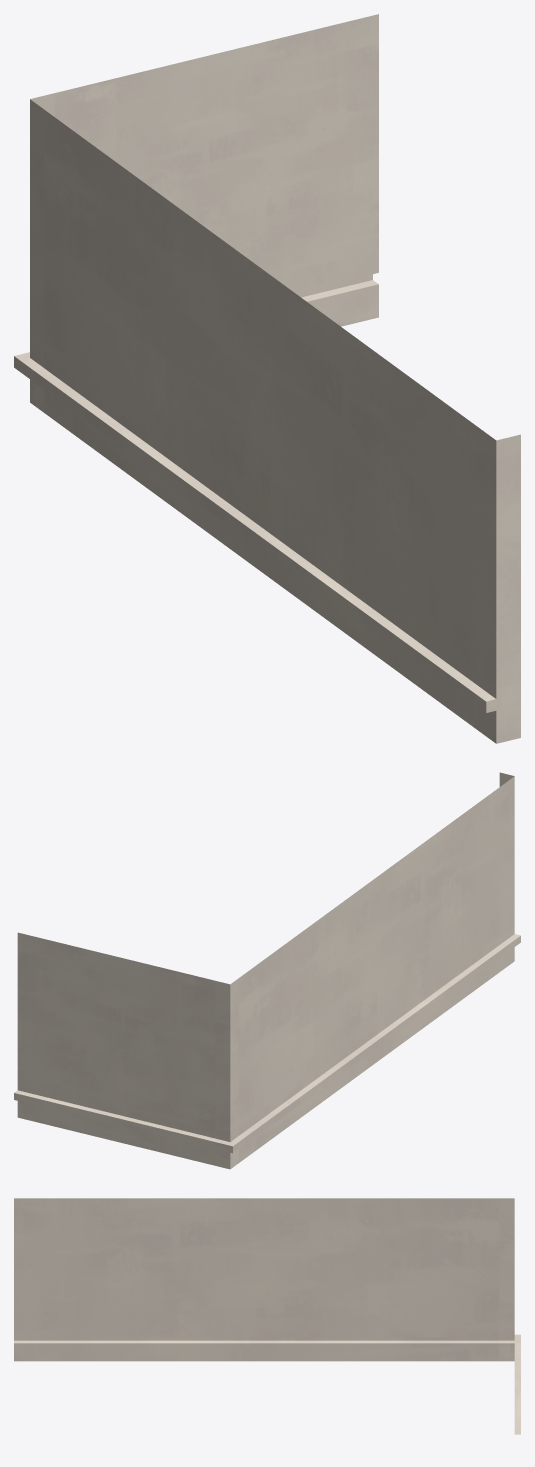
The model's file is stairs outer facade.fbx.
The picture shows the model from 3 angles, top to bottom: view 1: azimuth 30°, elevation 25°; view 2: azimuth 150°, elevation 25°; view 3: azimuth 270°, elevation 25°; orthographic projection. The views are drawn at different scales.
Parts seen in each view (by area): view 1: polySurface16, pCube826, pCube876; view 2: polySurface16, pCube826, pCube876; view 3: polySurface16, pCube876, pCube826.
Part boxes in pixels (<box>): polySurface16: <box>34,110,520,743</box>; pCube826: <box>54,14,378,326</box>; pCube876: <box>14,93,54,412</box>; polySurface16: <box>239,772,520,1162</box>; pCube826: <box>14,932,215,1165</box>; pCube876: <box>211,978,245,1169</box>; polySurface16: <box>14,1198,499,1361</box>; pCube876: <box>499,1198,520,1361</box>; pCube826: <box>514,1343,520,1434</box>.
Bounding box in the file's own units: 764 × 617 × 1740.
